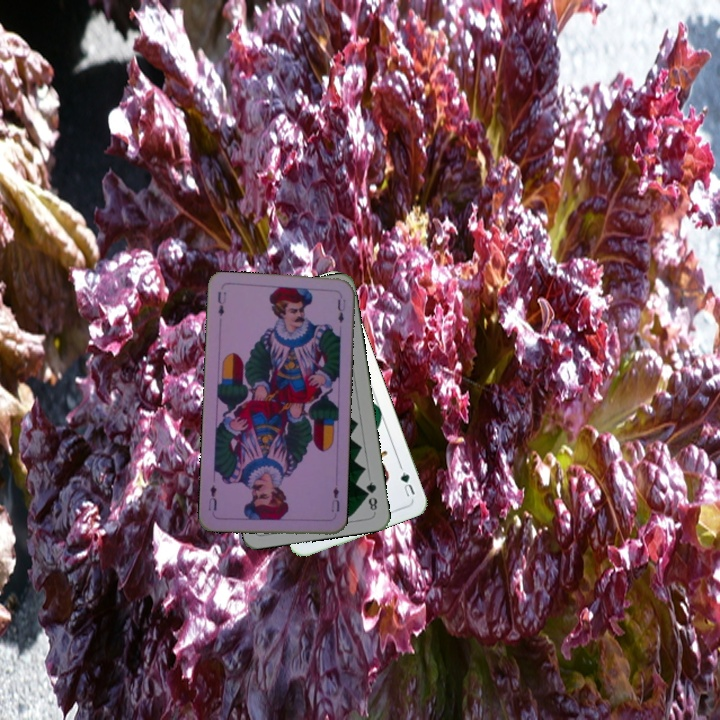EU: (327, 483, 342, 514), (214, 288, 229, 318)
G8: (362, 478, 380, 515)
GU: (396, 467, 418, 499)
